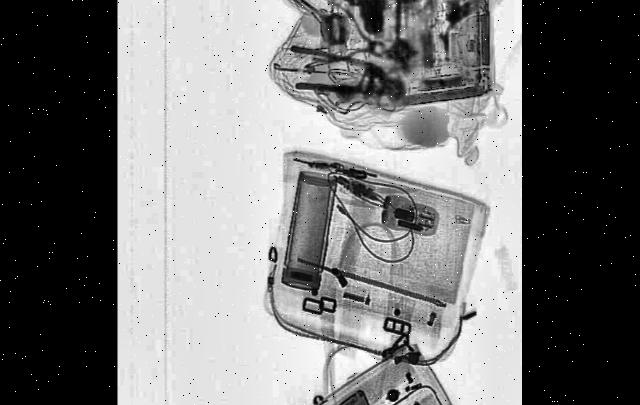Pliers: (288, 43, 396, 110), (311, 0, 390, 85), (340, 0, 393, 47), (306, 0, 368, 17)
